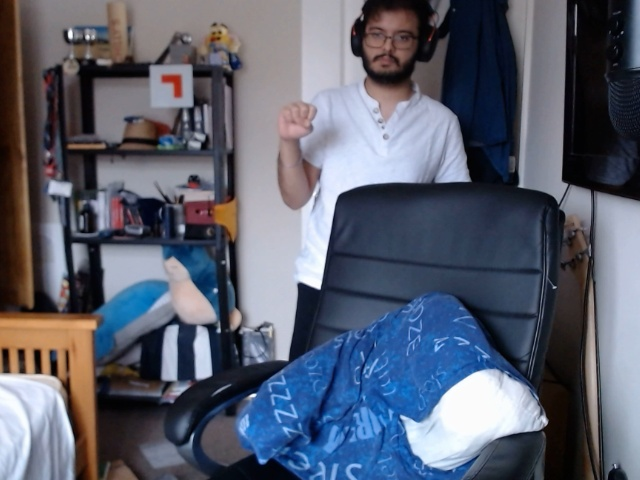Yes: (270, 96, 324, 147)
